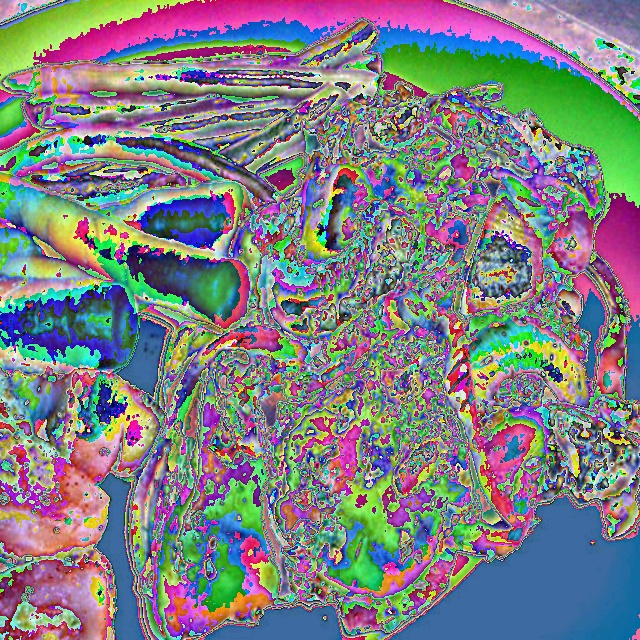background: (0, 16, 640, 639)
